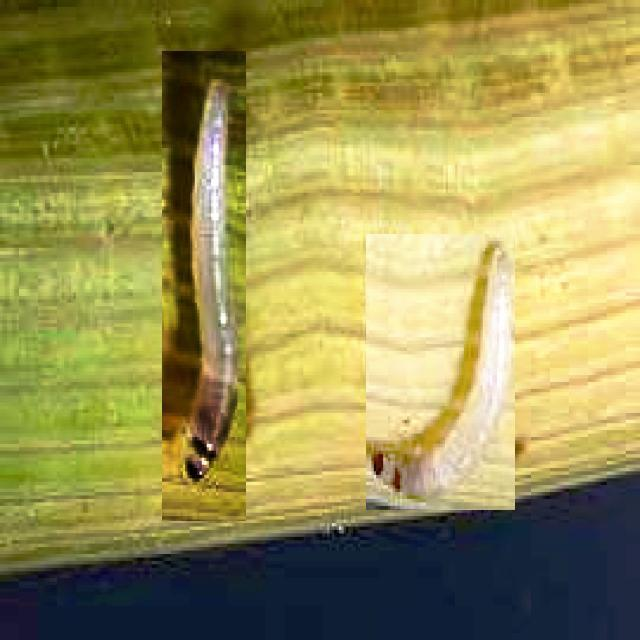whorl-maggot: (366, 234, 515, 510), (162, 51, 246, 521)
